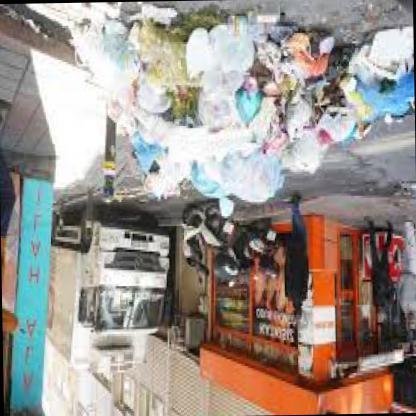Garbage: (104, 21, 402, 118), (134, 1, 284, 188), (196, 2, 279, 70), (77, 19, 145, 95), (335, 78, 413, 127), (298, 16, 343, 96), (226, 138, 278, 200), (281, 6, 335, 64), (208, 134, 256, 196), (286, 88, 334, 150), (134, 3, 188, 51), (187, 168, 230, 214), (232, 74, 262, 130), (82, 4, 122, 32), (271, 64, 304, 94)
